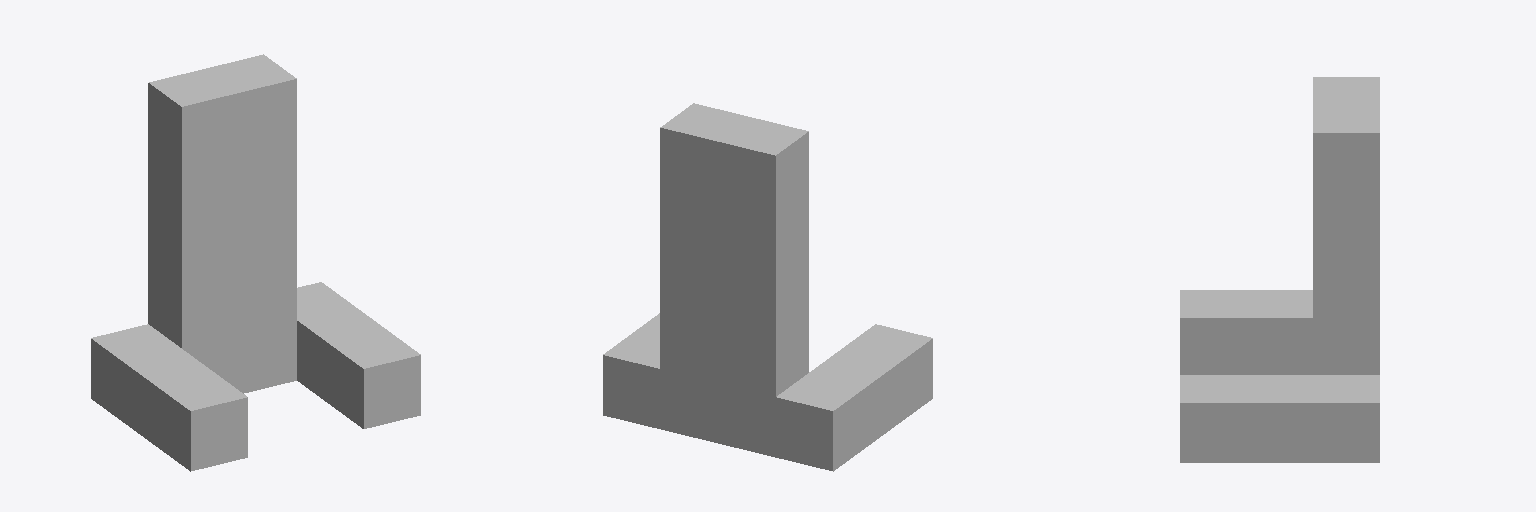
Rendered from computerBase.obj.
The picture shows the model from 3 angles: view 1: azimuth 30°, elevation 25°; view 2: azimuth 150°, elevation 25°; view 3: azimuth 270°, elevation 25°; orthographic projection.
Parts seen in each view (by area): view 1: computerBase; view 2: computerBase; view 3: computerBase.
Part boxes in pixels (bbox=[...]): computerBase: bbox=[91, 54, 420, 471]; computerBase: bbox=[603, 103, 932, 471]; computerBase: bbox=[1180, 77, 1379, 462].
Bounding box in the file's own units: 4 × 5 × 3.